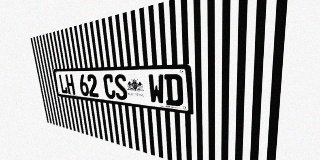2: (87, 74, 99, 97)
6: (78, 74, 90, 96)
C: (103, 74, 116, 99)
D: (164, 74, 183, 107)
H: (65, 74, 75, 95)
L: (58, 74, 68, 94)
S: (114, 74, 128, 101)
W: (148, 74, 165, 105)
